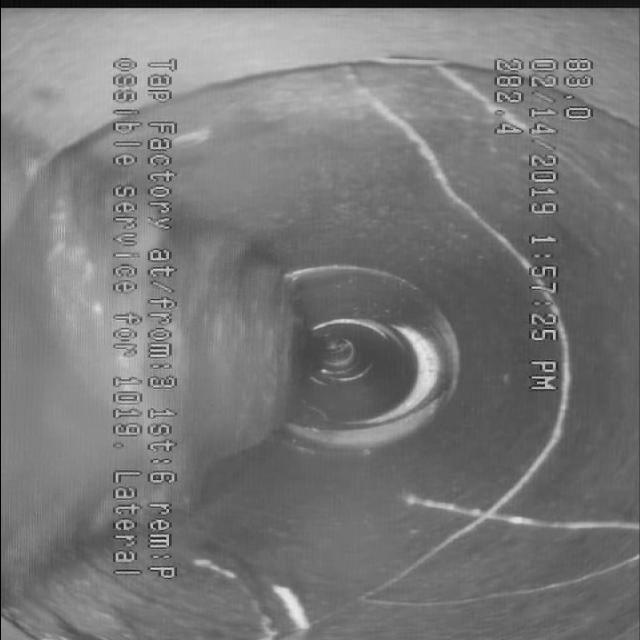Crack: (390, 446, 587, 574), (360, 79, 494, 242)
